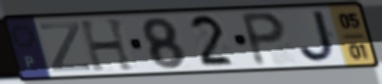2: (189, 12, 239, 69)
8: (141, 15, 190, 70)
H: (77, 16, 138, 74)
J: (296, 9, 340, 65)
P: (238, 10, 289, 69)
Z: (38, 20, 94, 74)
